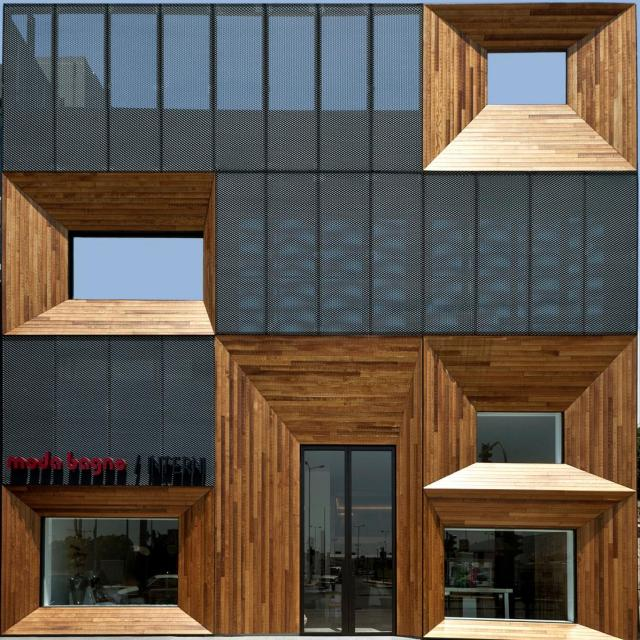door: (295, 441, 396, 639)
window: (40, 517, 177, 607), (442, 529, 574, 617), (67, 231, 205, 300), (477, 411, 563, 461), (487, 53, 568, 106)
